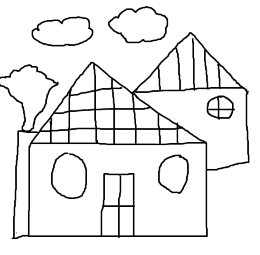closed_window: (205, 95, 234, 119)
clouds: (106, 6, 169, 44), (31, 15, 95, 46)
door: (100, 170, 135, 235)
open_window: (50, 151, 87, 199), (157, 153, 192, 193)
roof: (30, 61, 207, 145), (133, 30, 246, 93)
smoking_chimney: (0, 56, 63, 177)
wall: (26, 142, 208, 236), (132, 87, 249, 169)
